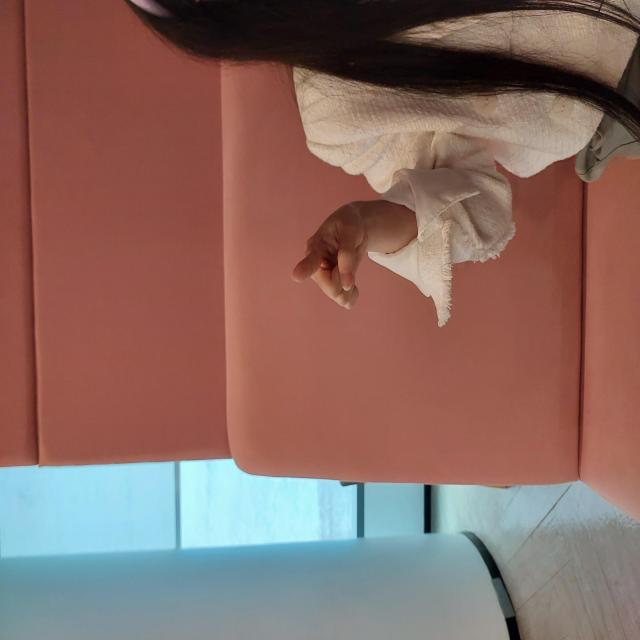Z: (333, 291, 439, 370)
